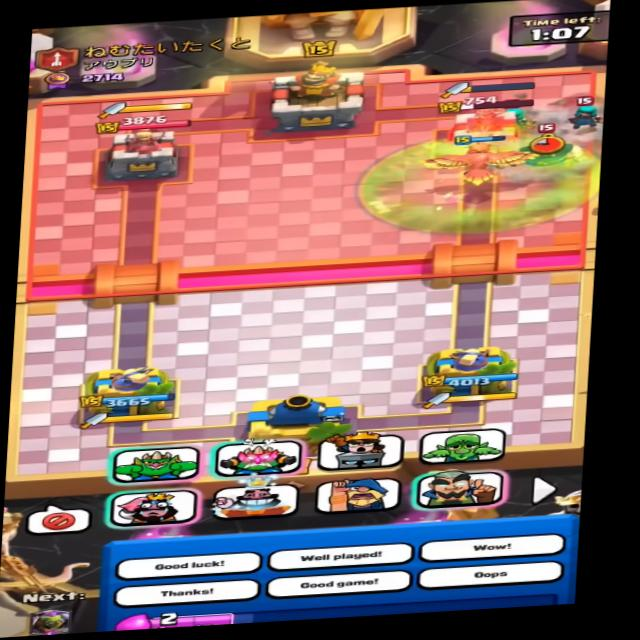rascal-boy: (502, 126, 587, 172)
rascal-girl: (566, 94, 601, 130), (500, 96, 536, 128)
